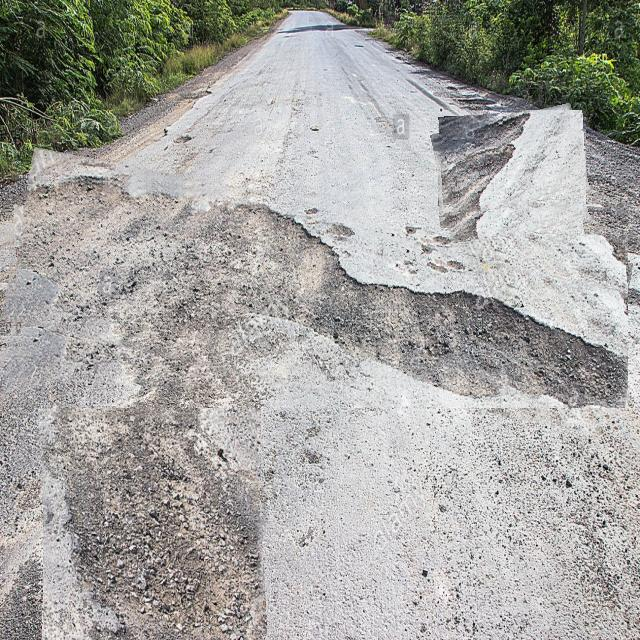Pothole: (5, 176, 628, 408), (41, 402, 264, 640), (434, 110, 586, 213)
